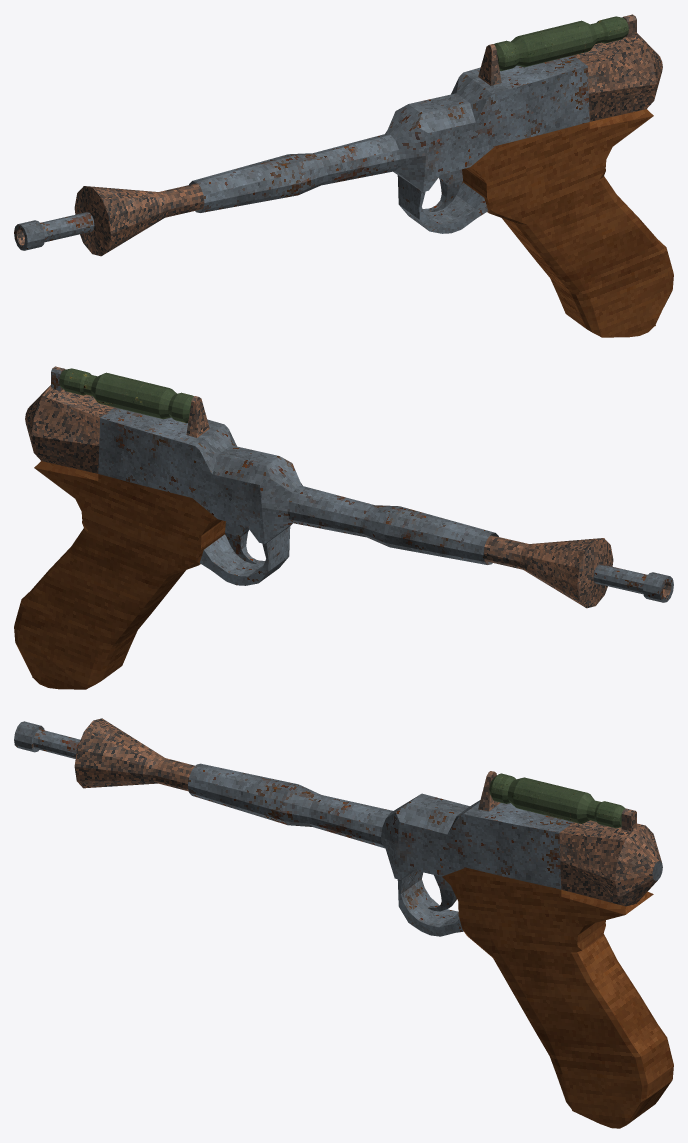
Rendered from ray gun.glb.
The picture shows the model from 3 angles, top to bottom: view 1: azimuth 30°, elevation 25°; view 2: azimuth 150°, elevation 25°; view 3: azimuth 330°, elevation 25°; orthographic projection.
Visible parts, largest first — view 1: Cube; view 2: Cube; view 3: Cube.
Part boxes in pixels (x1,y1,x2,y2): Cube: (14,14,673,337); Cube: (14,366,673,689); Cube: (14,718,673,1128).
Size of the model in its own units: 7.67 by 3.58 by 0.8626.
4 materials, 4 textured.
